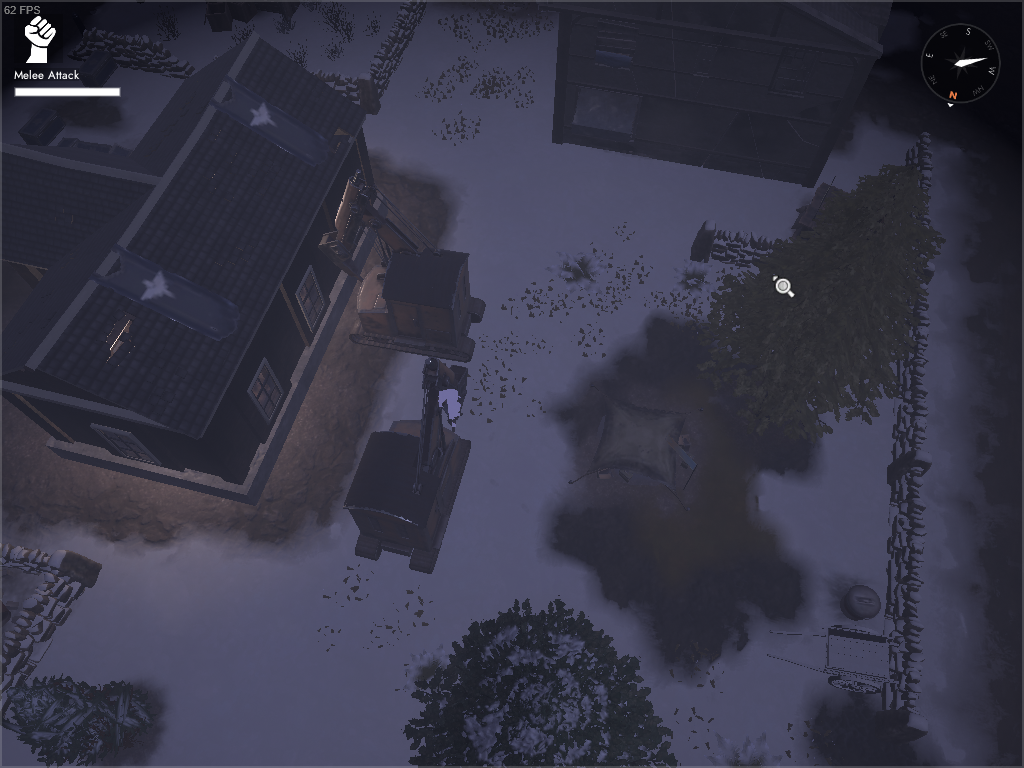foxhole: (567, 382, 706, 515)
pillbox: (791, 176, 856, 243)
player: (435, 387, 463, 428)
scv: (315, 167, 486, 363), (343, 356, 473, 574)
storage_box: (16, 104, 67, 147), (75, 49, 120, 90), (202, 3, 236, 32), (75, 139, 112, 156), (231, 1, 258, 23), (108, 144, 135, 163), (54, 135, 81, 152)
